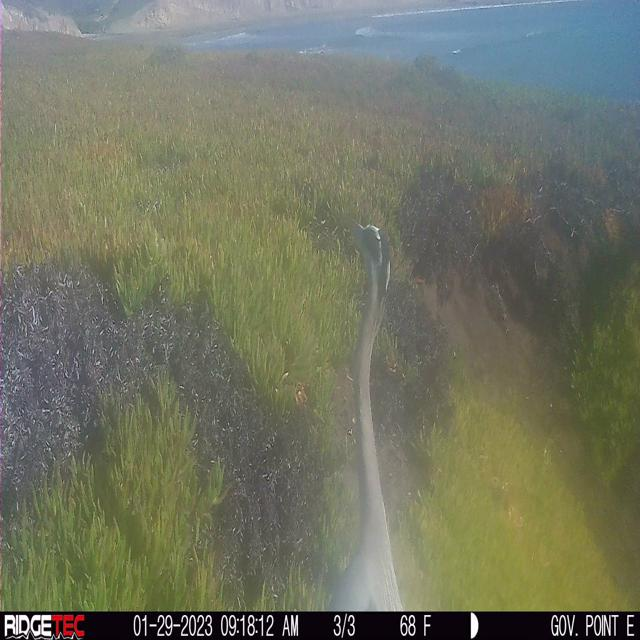bird: (330, 217, 406, 609)
